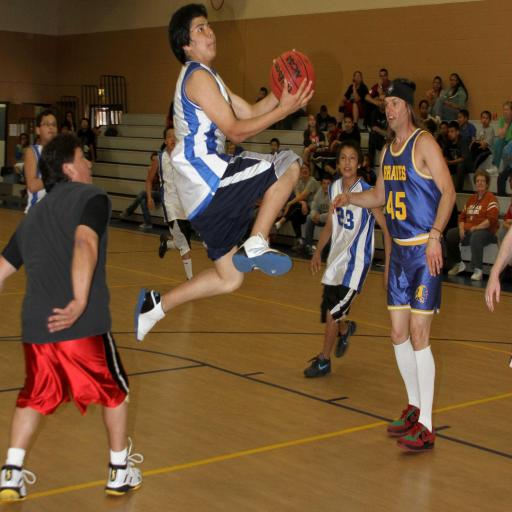person: (135, 4, 313, 340), (0, 134, 142, 501), (332, 79, 455, 451), (304, 205, 391, 377), (146, 126, 192, 279), (447, 170, 499, 280), (275, 164, 319, 253), (25, 109, 57, 213), (305, 173, 333, 254), (121, 174, 161, 228), (486, 230, 511, 311), (445, 121, 473, 192), (311, 117, 342, 175), (487, 101, 511, 174), (432, 74, 467, 120), (364, 68, 389, 128), (339, 72, 368, 123), (470, 111, 495, 170), (369, 93, 388, 163), (303, 114, 325, 164), (77, 118, 95, 162), (335, 114, 360, 145), (497, 142, 511, 196), (458, 109, 476, 146), (496, 203, 511, 247), (427, 76, 444, 113), (358, 153, 376, 186), (15, 133, 28, 173), (436, 121, 449, 153), (317, 105, 329, 131), (65, 111, 76, 132), (419, 100, 428, 125), (166, 101, 173, 126), (257, 87, 267, 102), (270, 138, 279, 154), (61, 123, 69, 134)
